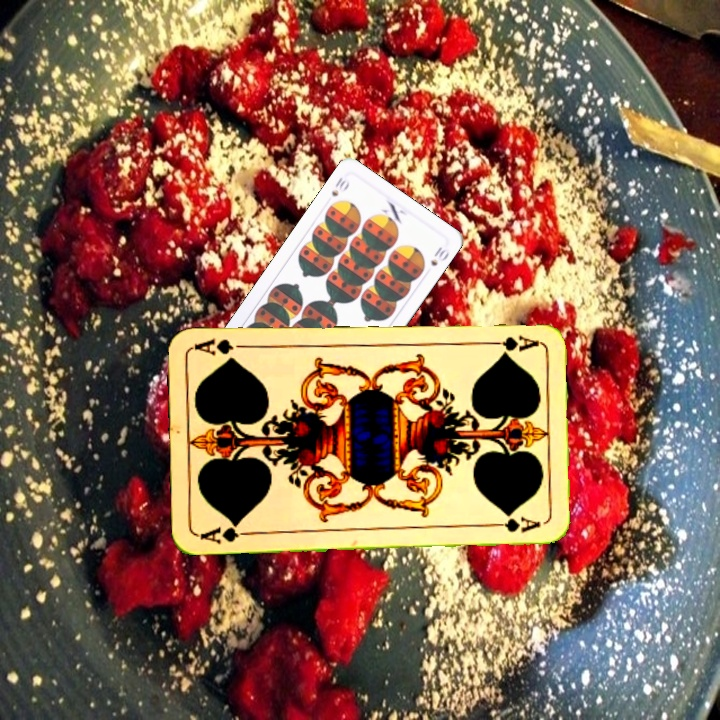GA: (196, 518, 255, 546), (481, 331, 540, 353)
S10: (327, 173, 352, 199)
